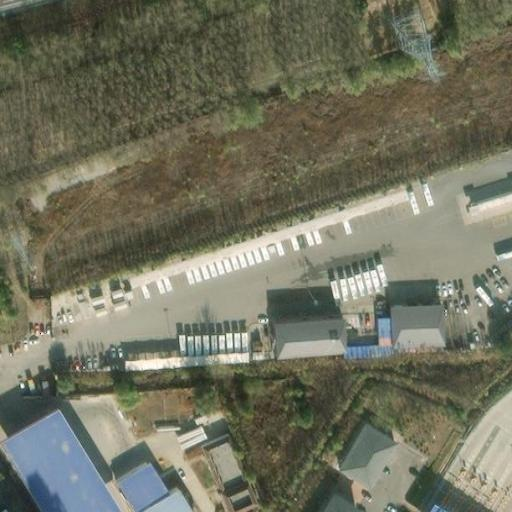building: (436, 387, 511, 510), (193, 427, 254, 512), (108, 327, 238, 360), (332, 423, 390, 487), (102, 453, 159, 511), (266, 314, 339, 355), (387, 307, 439, 345), (124, 482, 188, 512), (309, 487, 358, 512), (371, 314, 388, 345)
